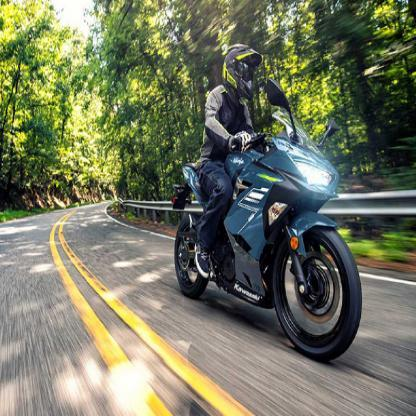helmet: (221, 43, 263, 101)
